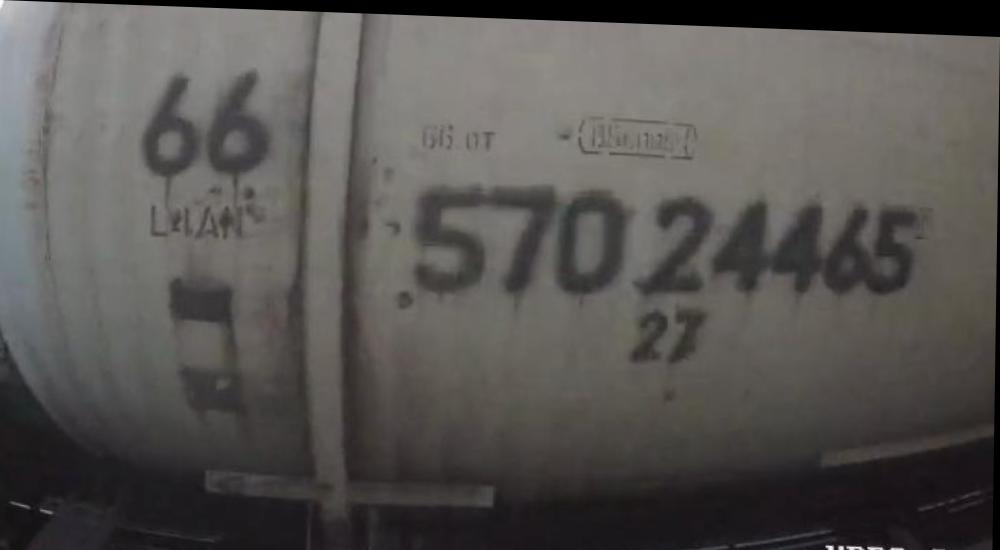Wagon-number: (412, 173, 918, 307)
